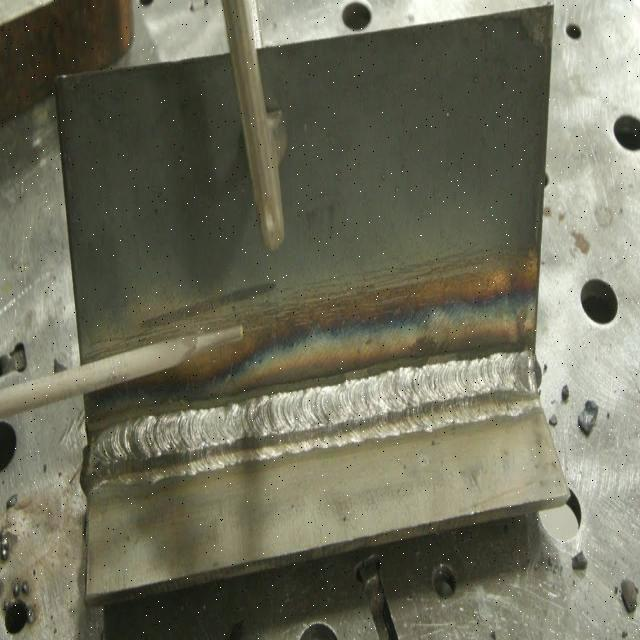Good Welding: (85, 351, 540, 489)
